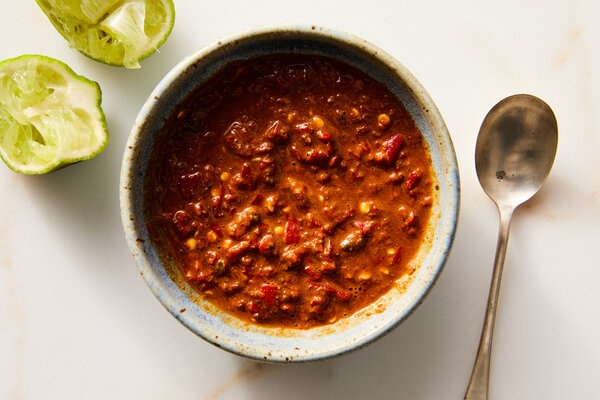sambal: (150, 57, 427, 330)
